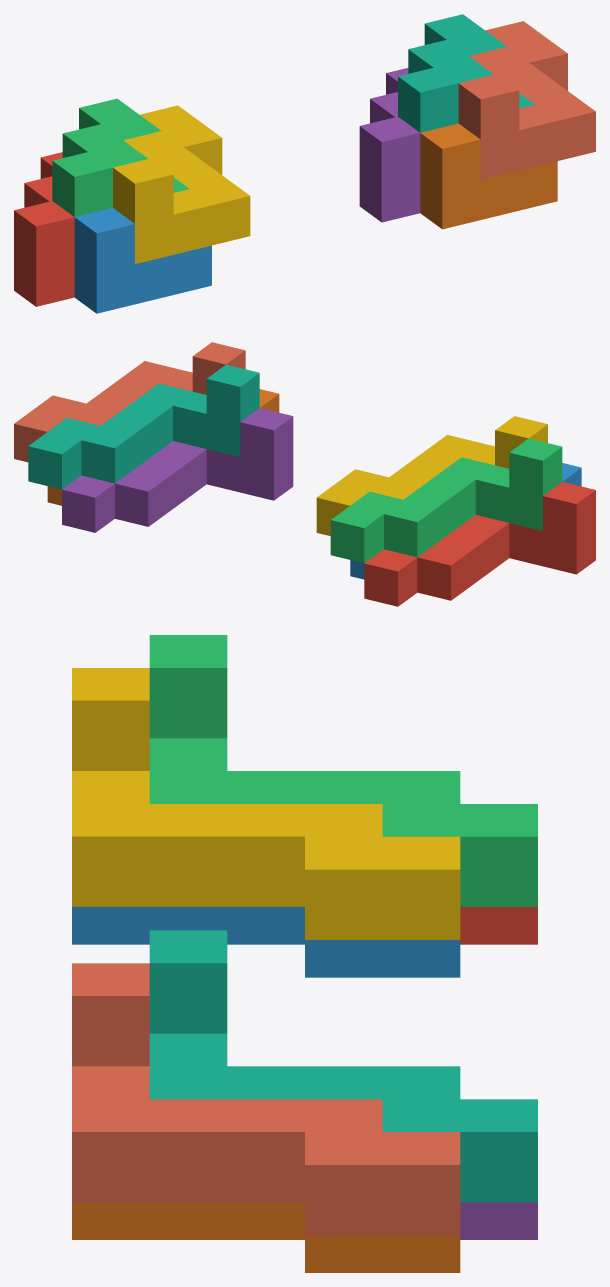
File: tiling.obj
The picture shows the model from 3 angles, top to bottom: view 1: azimuth 30°, elevation 25°; view 2: azimuth 150°, elevation 25°; view 3: azimuth 270°, elevation 25°; orthographic projection. The views are drawn at different scales.
Parts seen in each view (by area): view 1: copy_1_domain_8, copy_1_domain_4, copy_1_domain_6, copy_1_domain_2, copy_1_domain_3, copy_1_domain_7, copy_1_domain_5, copy_1_domain_1; view 2: copy_1_domain_3, copy_1_domain_7, copy_1_domain_5, copy_1_domain_1, copy_1_domain_8, copy_1_domain_4, copy_1_domain_6, copy_1_domain_2; view 3: copy_1_domain_8, copy_1_domain_4, copy_1_domain_7, copy_1_domain_3, copy_1_domain_6, copy_1_domain_2, copy_1_domain_1, copy_1_domain_5.
Part boxes in pixels (x1,y1,x2,y2): copy_1_domain_8: (458,21,595,179); copy_1_domain_4: (113,105,250,263); copy_1_domain_6: (420,123,557,229); copy_1_domain_2: (74,208,211,313); copy_1_domain_3: (52,98,188,216); copy_1_domain_7: (398,14,534,132); copy_1_domain_5: (359,68,420,222); copy_1_domain_1: (14,152,74,306); copy_1_domain_3: (330,438,562,563); copy_1_domain_7: (28,364,259,489); copy_1_domain_5: (62,408,293,532); copy_1_domain_1: (364,482,595,606); copy_1_domain_8: (14,342,245,462); copy_1_domain_4: (316,416,547,535); copy_1_domain_6: (47,389,279,505); copy_1_domain_2: (350,463,581,579); copy_1_domain_8: (72,963,460,1235); copy_1_domain_4: (72,668,460,939); copy_1_domain_7: (149,930,537,1202); copy_1_domain_3: (149,635,537,906); copy_1_domain_6: (72,1202,460,1272); copy_1_domain_2: (72,907,460,977); copy_1_domain_1: (460,907,537,944); copy_1_domain_5: (460,1202,537,1239).
Size of the model in its own units: 15 by 3 by 6.
